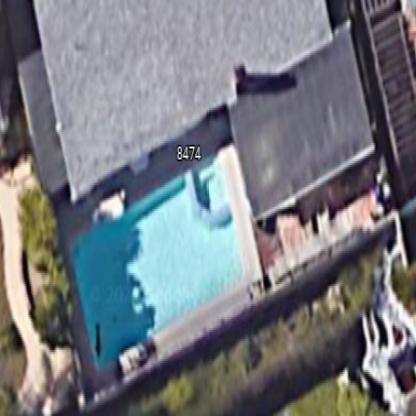pool: (60, 145, 250, 371)
